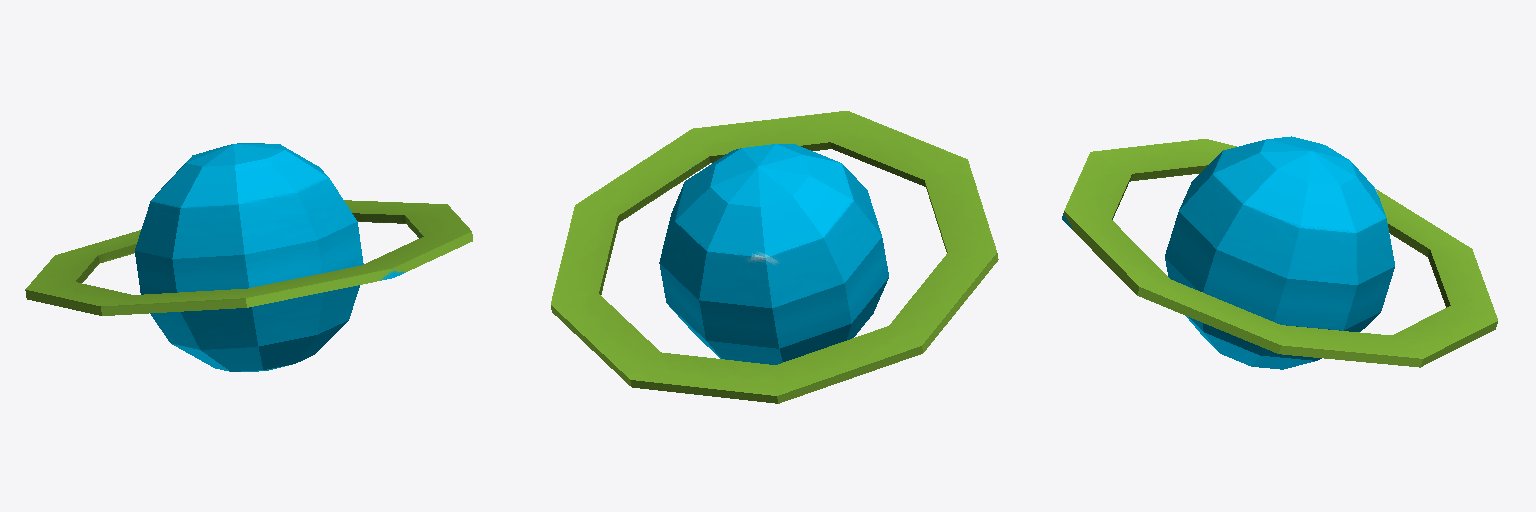
The picture shows the model from 3 angles: view 1: azimuth 30°, elevation 25°; view 2: azimuth 150°, elevation 25°; view 3: azimuth 270°, elevation 25°; orthographic projection.
Visible parts, largest first — view 1: planet; view 2: planet; view 3: planet.
Part boxes in pixels (bbox=[...]): planet: bbox=[25, 143, 472, 371]; planet: bbox=[551, 111, 998, 403]; planet: bbox=[1062, 136, 1497, 369].
Bounding box in the file's own units: 38.53 × 19.99 × 37.9.
Materials: 1 (1 with a texture image).